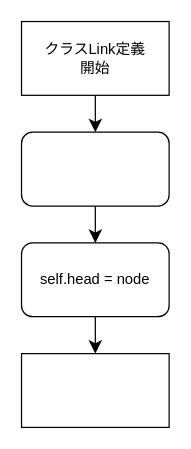
Image size: 191x449. Some labels were removed from this diagram. Each missing label, with the centre of its shape:
"def __init__(self, node)" goes at point 94,168.
"終了" goes at point 94,389.
